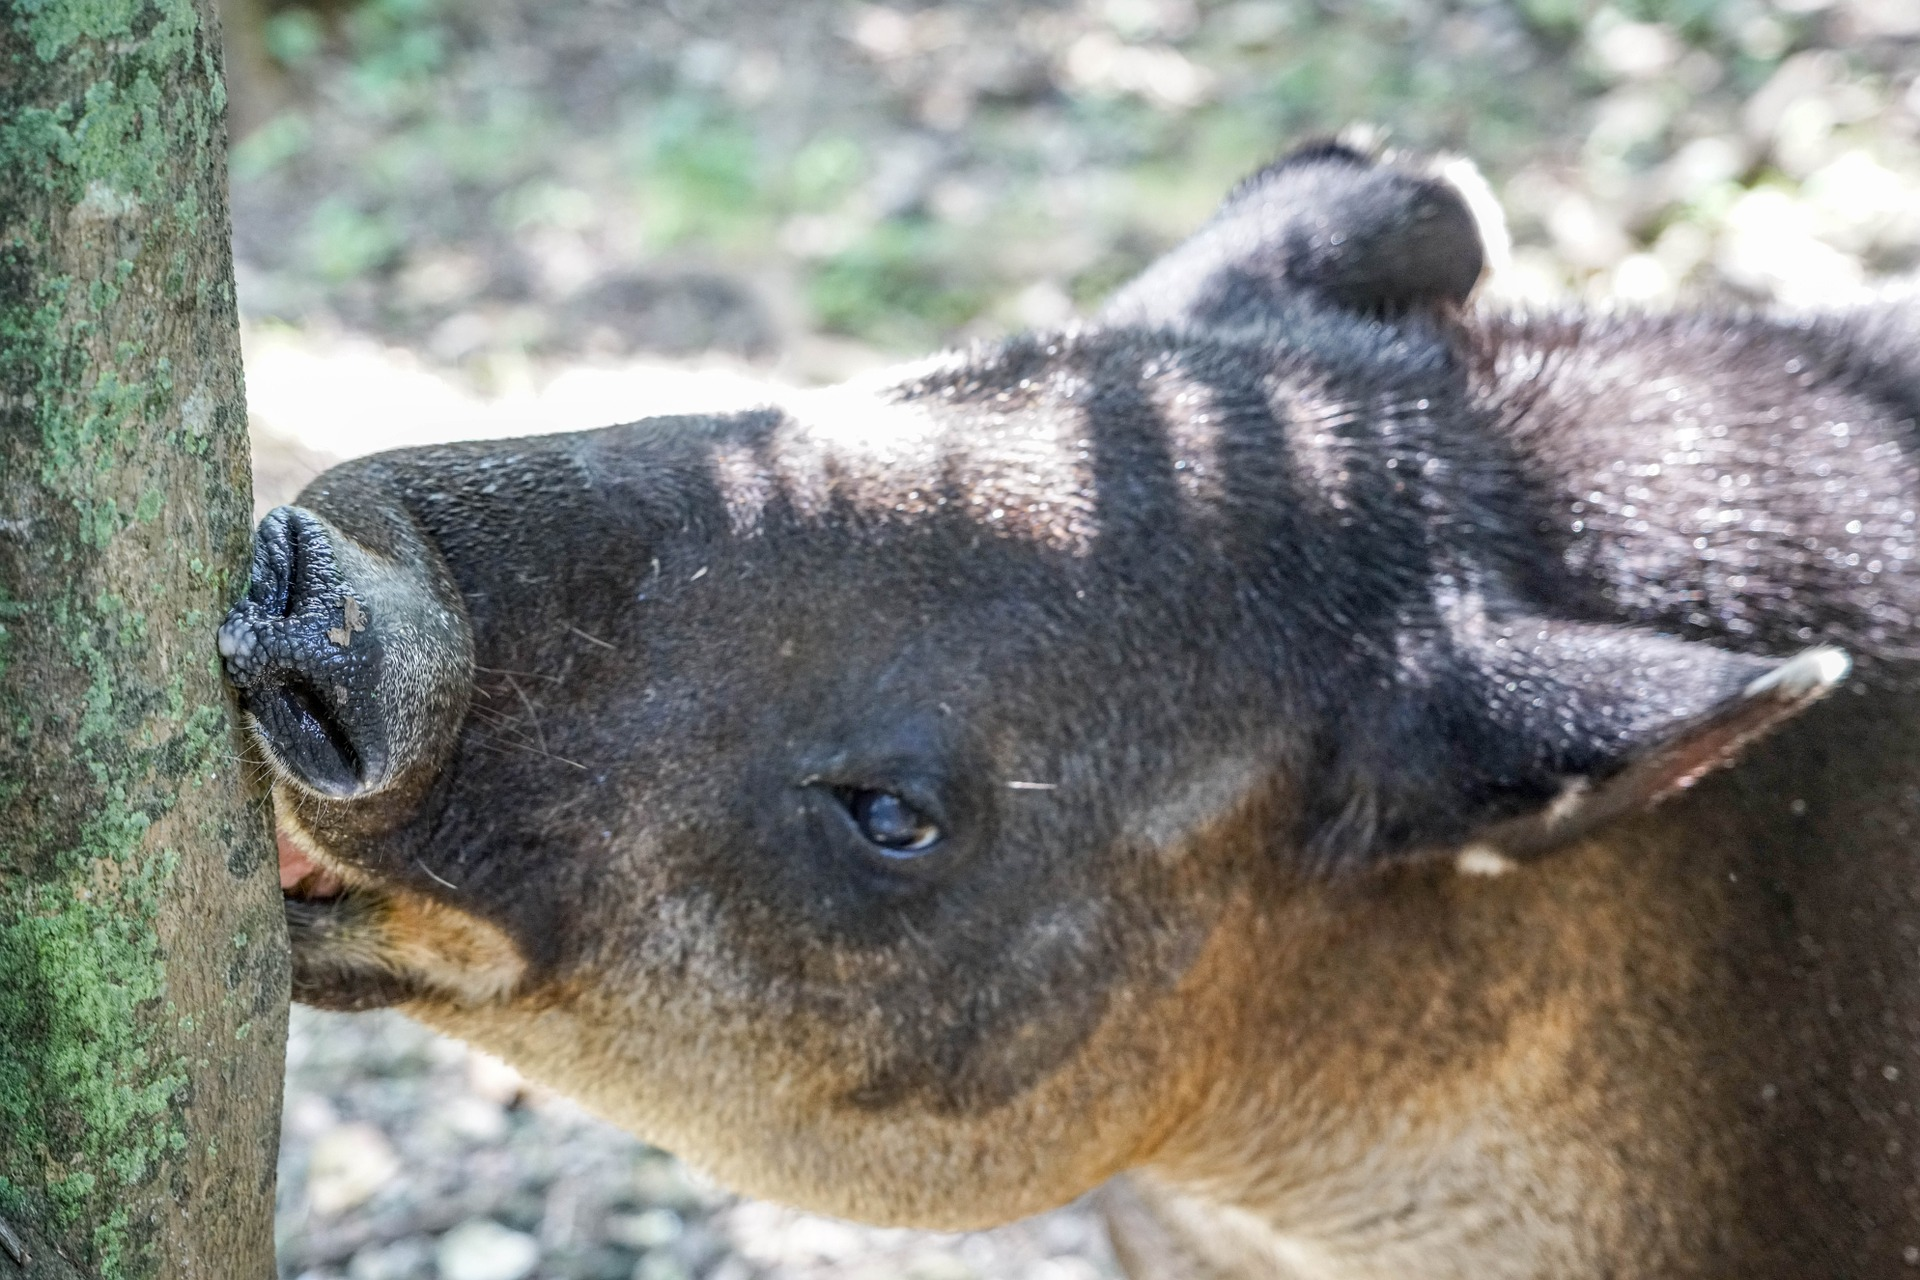Anta: (274, 121, 1891, 1247)
